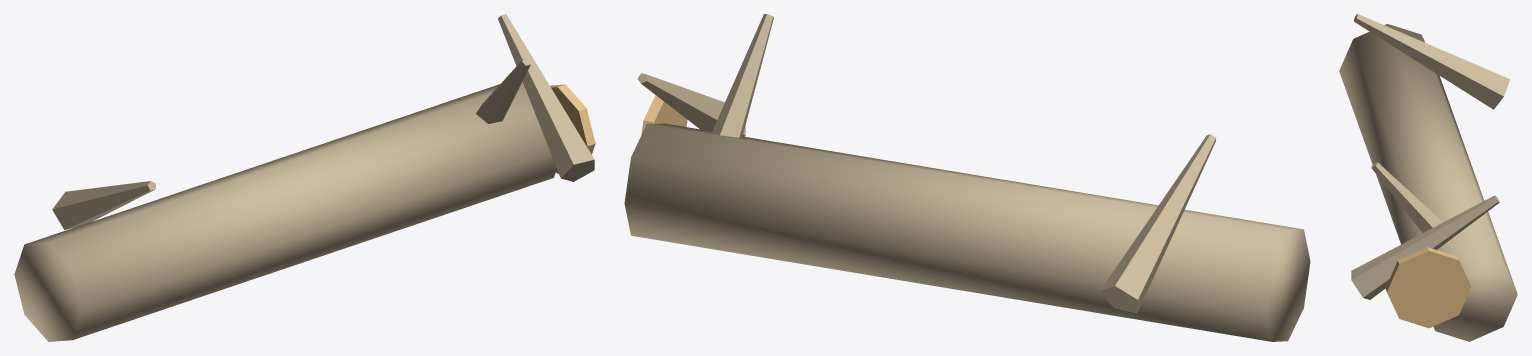
Rendered from hd_driftwood.gltf.
The picture shows the model from 3 angles, left to right: view 1: azimuth 30°, elevation 25°; view 2: azimuth 150°, elevation 25°; view 3: azimuth 270°, elevation 25°; orthographic projection. The views are drawn at different scales.
Parts seen in each view (by area): view 1: log, fork1, fork2, fork0, cut; view 2: log, fork2, fork0, fork1, cut; view 3: log, cut, fork2, fork1, fork0.
Boxes of the visible parts, x1,y1,x2,y2 form: log: (14,81,556,341); fork1: (498,14,594,181); fork2: (52,181,155,229); fork0: (476,57,530,123); cut: (550,84,595,173); log: (624,123,1310,341); fork2: (1100,134,1215,313); fork0: (711,14,773,137); fork1: (637,73,745,136); cut: (641,95,687,134); log: (1339,24,1517,341); cut: (1385,247,1471,328); fork2: (1354,14,1510,109); fork1: (1351,195,1499,299); fork0: (1371,162,1443,232).
Size of the model in its own units: 1.87 by 0.5603 by 0.5854.
